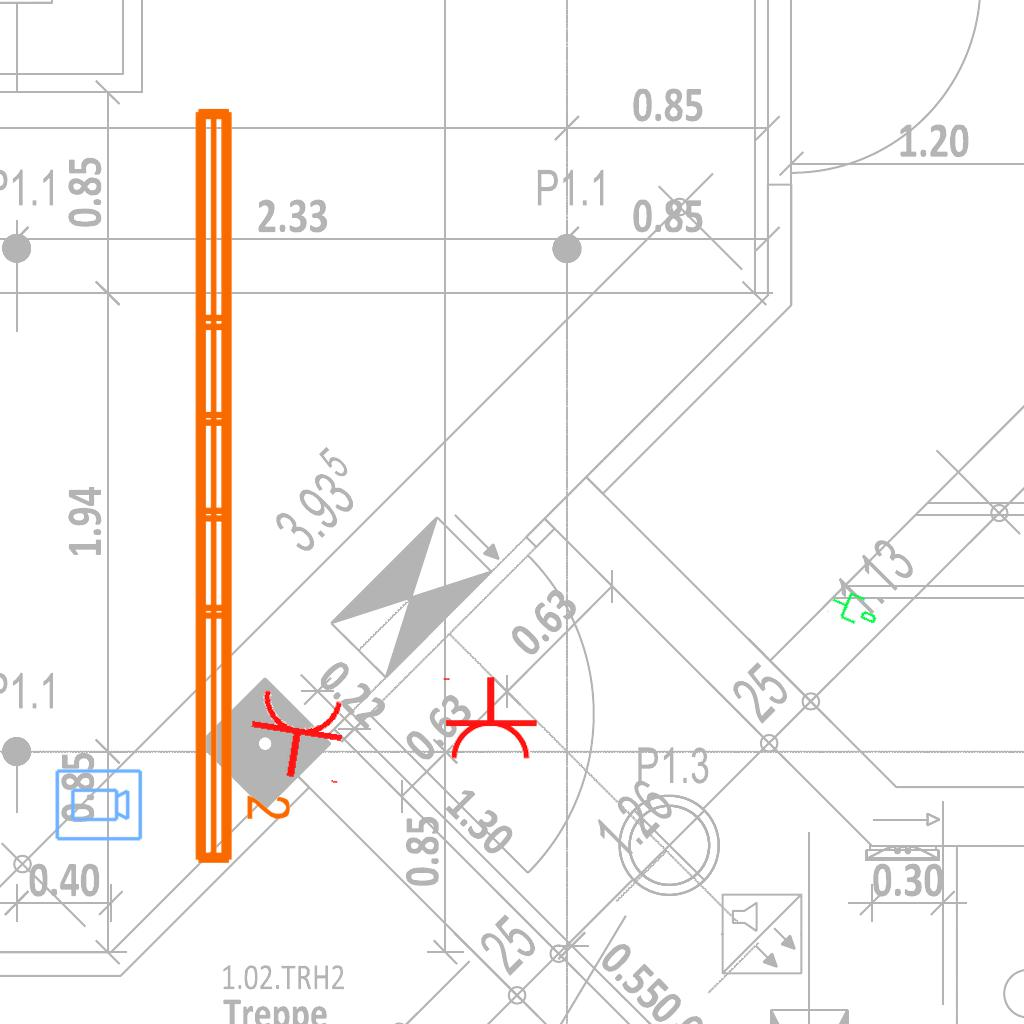Ambulanz_Pendelleuchte_LED: (183, 98, 295, 872)
Datenanschluss_einfach: (825, 582, 885, 634)
KFO_Kamera_mit_Festobjektiv: (53, 767, 144, 844)
Schukosteckdose_einfach: (242, 685, 355, 787), (439, 675, 539, 762)
